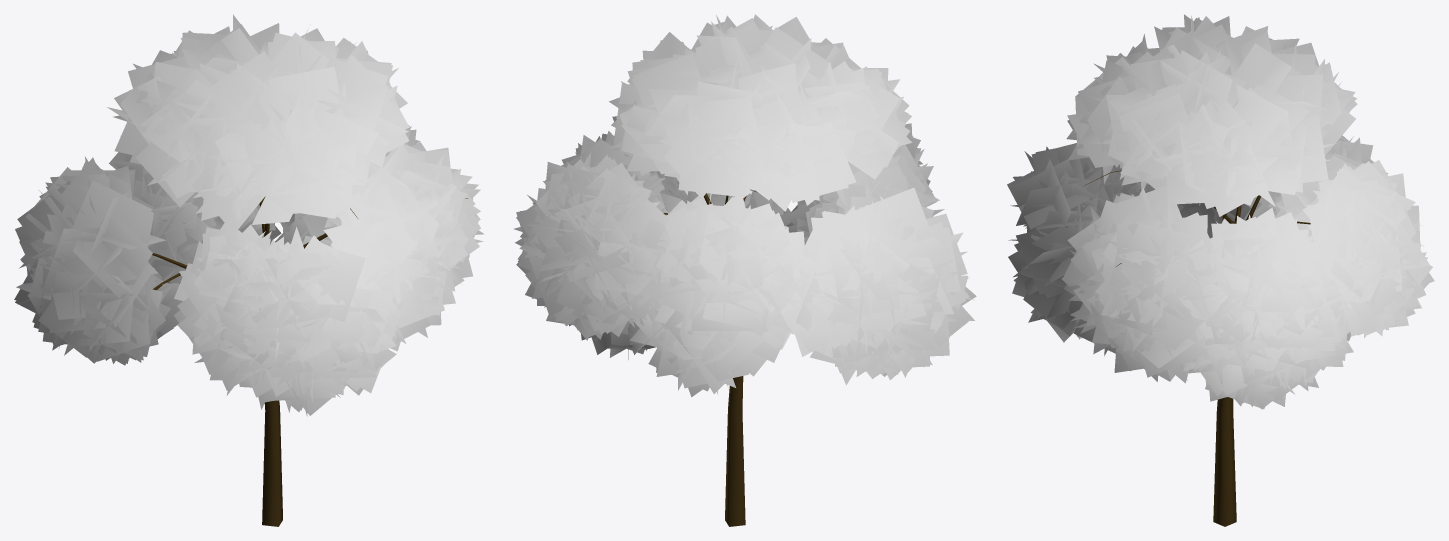
The model's file is Tree1_vov.fbx.
3 renders of one model, left to right at view 1: azimuth 30°, elevation 25°; view 2: azimuth 150°, elevation 25°; view 3: azimuth 270°, elevation 25°, orthographic. The views are drawn at different scales.
Parts seen in each view (by area): view 1: Folliage, Trunk; view 2: Folliage, Trunk; view 3: Folliage, Trunk.
Boxes of the visible parts, <box> form: Folliage: <box>14,14,484,416</box>; Trunk: <box>152,196,467,526</box>; Folliage: <box>514,14,976,397</box>; Trunk: <box>663,189,757,526</box>; Folliage: <box>1007,14,1434,409</box>; Trunk: <box>1085,170,1310,526</box>.
Size of the model in its own units: 6.76 by 7.86 by 6.42.
